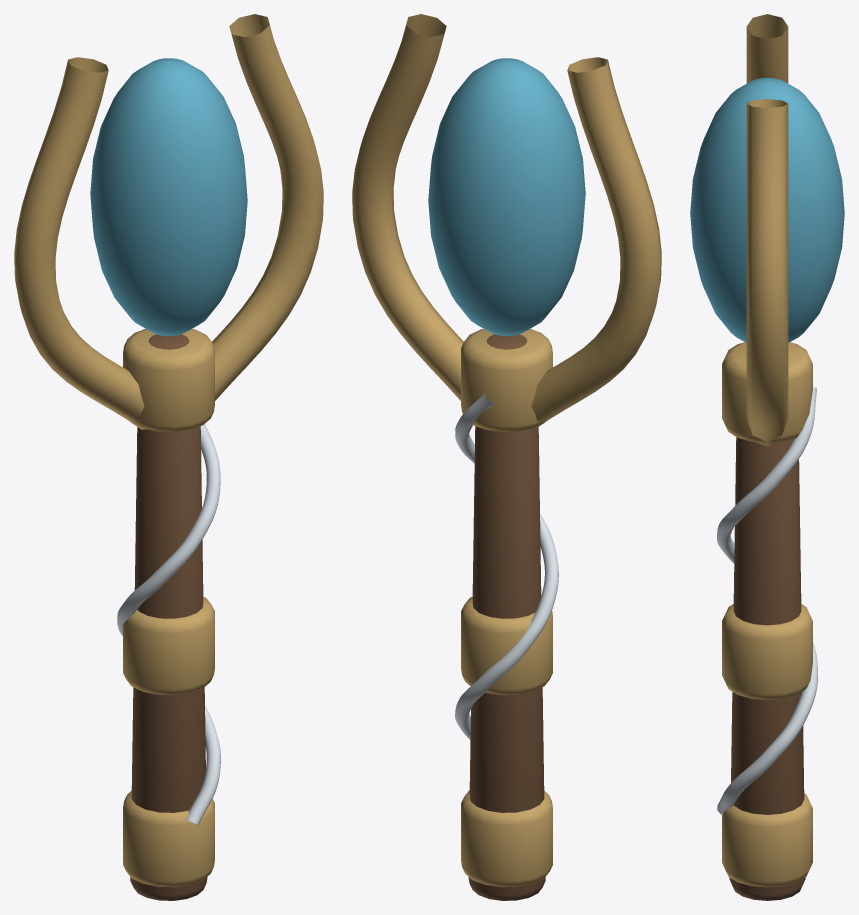
File: bone_wand.glb
3 views of the same model, side by side, from view 1: azimuth 30°, elevation 25°; view 2: azimuth 150°, elevation 25°; view 3: azimuth 270°, elevation 25° (orthographic). The views are drawn at different scales.
Visible parts, largest first — view 1: Moonstone, Carved shaft, Crescent cradle, Crescent cradle.001, Brass ferrule.002, Brass ferrule.001, Brass ferrule, Vine engraving; view 2: Moonstone, Carved shaft, Crescent cradle, Crescent cradle.001, Brass ferrule, Brass ferrule.002, Brass ferrule.001, Vine engraving; view 3: Moonstone, Carved shaft, Crescent cradle.001, Brass ferrule.001, Brass ferrule, Vine engraving, Brass ferrule.002, Crescent cradle.
Boxes of the visible parts, x1,y1,x2,y2 form: Moonstone: (90,58,247,335); Carved shaft: (130,334,207,900); Crescent cradle: (14,57,145,429); Crescent cradle.001: (212,14,323,400); Brass ferrule.002: (123,329,214,431); Brass ferrule.001: (123,597,214,695); Brass ferrule: (123,791,214,887); Vine engraving: (117,424,220,826); Moonstone: (428,58,585,335); Carved shaft: (468,334,545,900); Crescent cradle: (530,57,661,429); Crescent cradle.001: (352,14,463,400); Brass ferrule: (461,790,552,887); Brass ferrule.002: (461,329,552,431); Brass ferrule.001: (461,597,552,695); Vine engraving: (455,393,558,739); Moonstone: (690,77,844,342); Carved shaft: (729,437,805,900); Crescent cradle.001: (746,99,788,446); Brass ferrule.001: (722,604,812,699); Brass ferrule: (722,793,812,887); Vine engraving: (717,386,817,814); Brass ferrule.002: (722,342,812,442); Crescent cradle: (746,14,788,83).
Bounding box in the file's own units: 0.3788 × 1 × 0.17.
